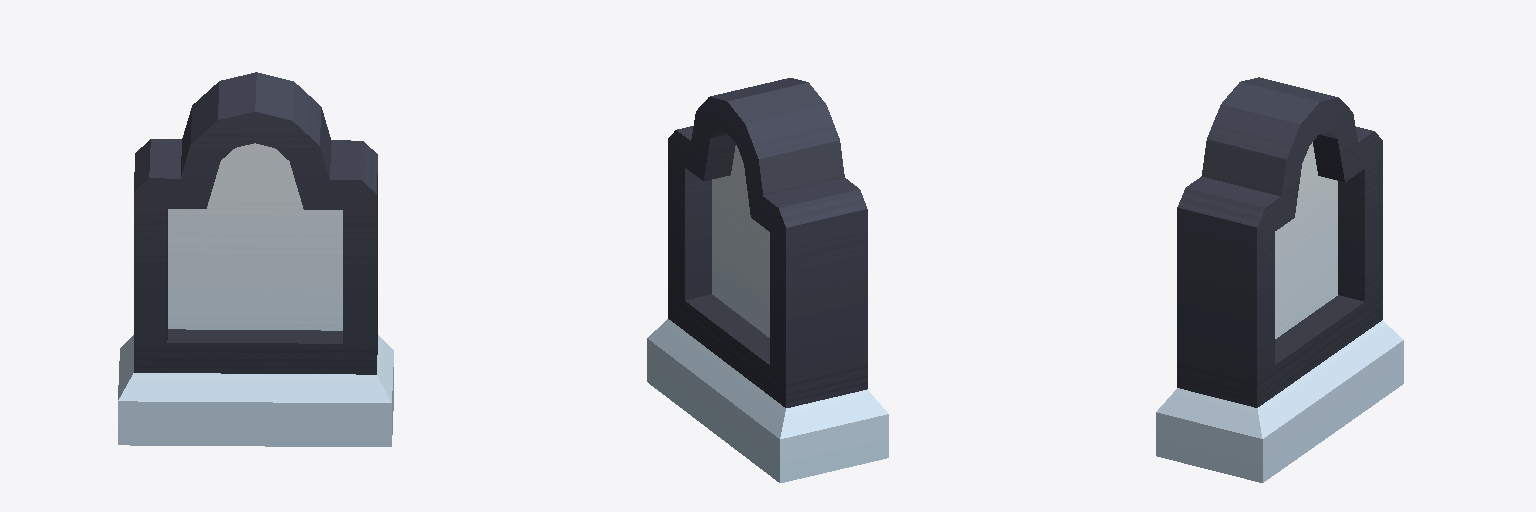
3 renders of one model, left to right at view 1: azimuth 30°, elevation 25°; view 2: azimuth 150°, elevation 25°; view 3: azimuth 270°, elevation 25°, orthographic.
Parts seen in each view (by area): view 1: gravestone-bevel.003; view 2: gravestone-bevel.003; view 3: gravestone-bevel.003.
Boxes of the visible parts, box(x1,y1,x2,y2) form: gravestone-bevel.003: box(118, 72, 393, 446); gravestone-bevel.003: box(647, 78, 888, 482); gravestone-bevel.003: box(1156, 77, 1403, 482).
Bounding box in the file's own units: 1.18 × 1.42 × 0.9742.
1 materials, 1 textured.